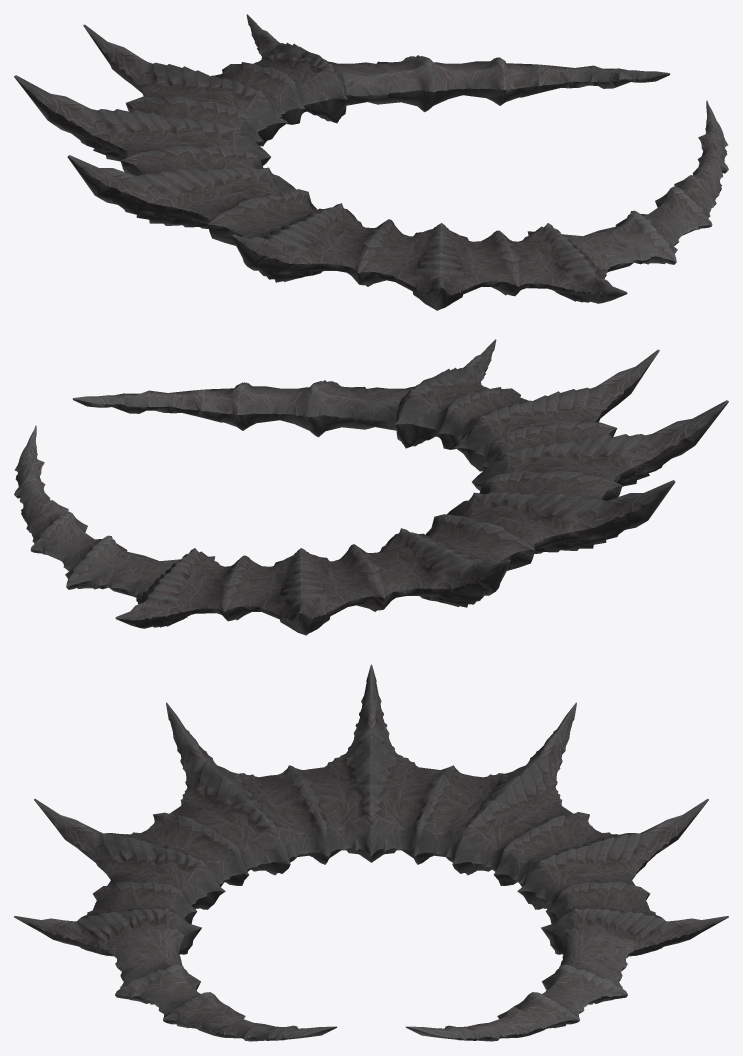
The model's file is bg_rad_kamen_floor04_sm.obj.
3 renders of one model, top to bottom at view 1: azimuth 30°, elevation 25°; view 2: azimuth 150°, elevation 25°; view 3: azimuth 270°, elevation 25°, orthographic. The views are drawn at different scales.
Parts seen in each view (by area): view 1: bg_rad_kamen_floor04_sm_0, bg_rad_kamen_floor04_sm_1; view 2: bg_rad_kamen_floor04_sm_0, bg_rad_kamen_floor04_sm_1; view 3: bg_rad_kamen_floor04_sm_0, bg_rad_kamen_floor04_sm_1.
Boxes of the visible parts, <box> form: bg_rad_kamen_floor04_sm_0: <box>14,14,627,310</box>; bg_rad_kamen_floor04_sm_1: <box>328,55,728,272</box>; bg_rad_kamen_floor04_sm_0: <box>115,339,728,635</box>; bg_rad_kamen_floor04_sm_1: <box>14,380,414,597</box>; bg_rad_kamen_floor04_sm_0: <box>14,664,728,956</box>; bg_rad_kamen_floor04_sm_1: <box>106,928,636,1041</box>.
Size of the model in its own units: 81.61 by 17.82 by 86.54.
2 materials, 2 textured.
